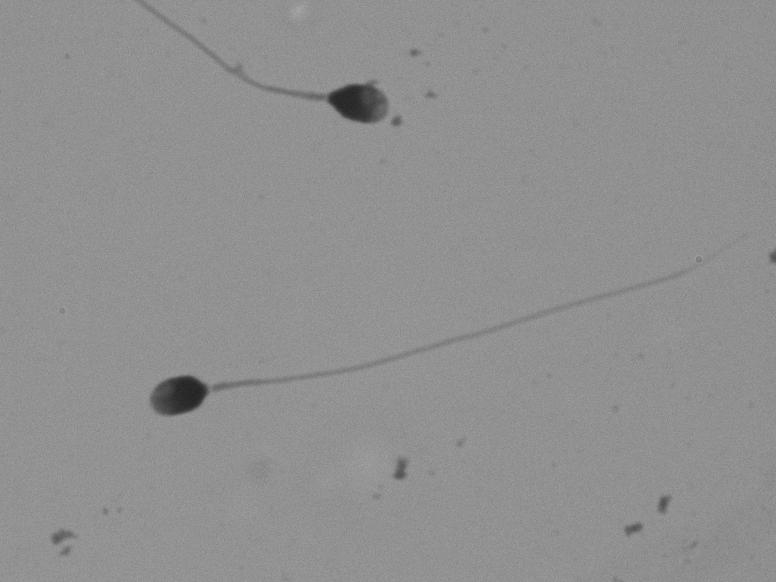Normal: (104, 219, 745, 448)
